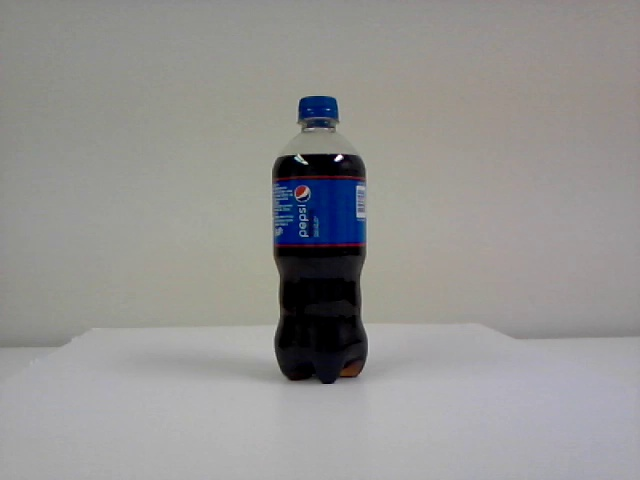botolplastik: (273, 96, 368, 384)
